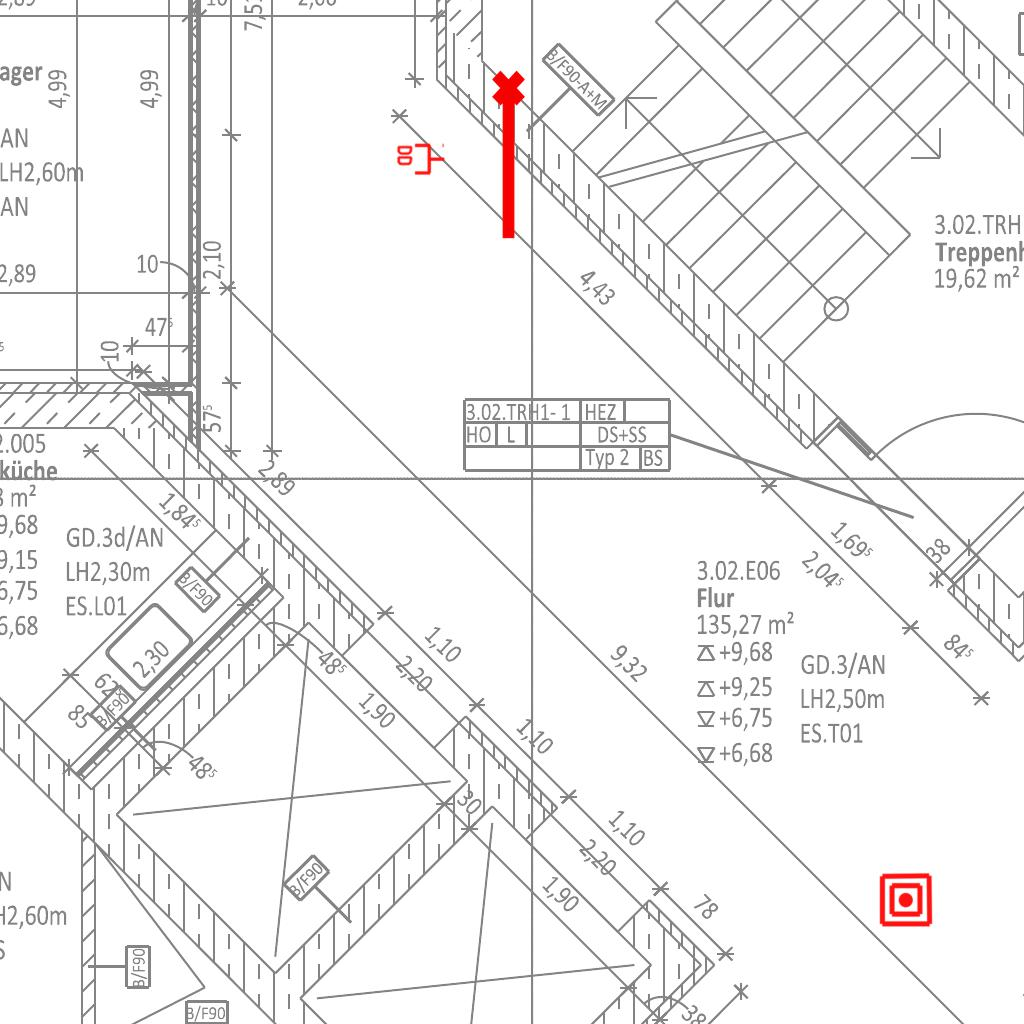ASR_Ansaugoeffnung: (488, 68, 534, 244)
Datenanschluss_zweifach: (395, 143, 446, 177)
NAM-Nichtautomatischer_Melder: (878, 872, 934, 928)
